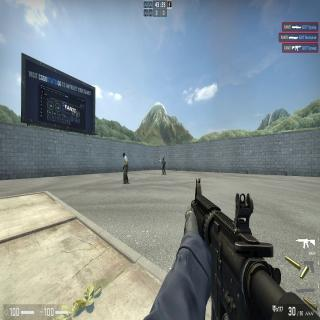CT-Body: (122, 153, 129, 184), (163, 156, 165, 174)
CT-Head: (123, 153, 125, 157), (163, 156, 164, 160)
